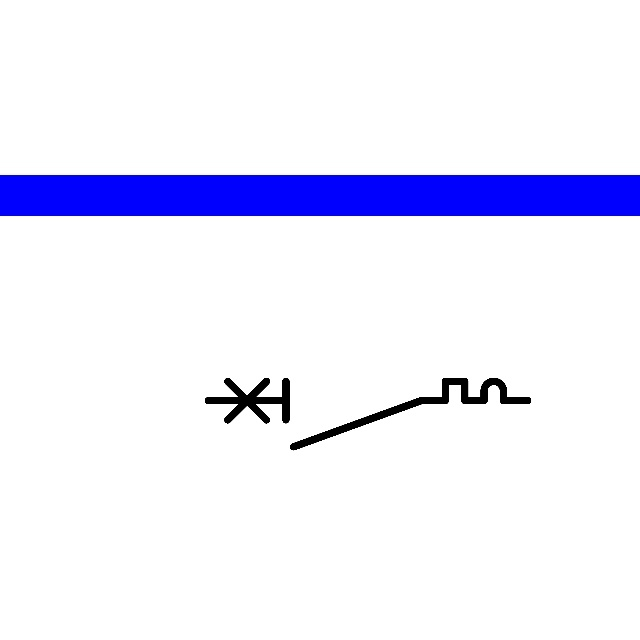interruptor_termomagnetico: (200, 373, 536, 455)
